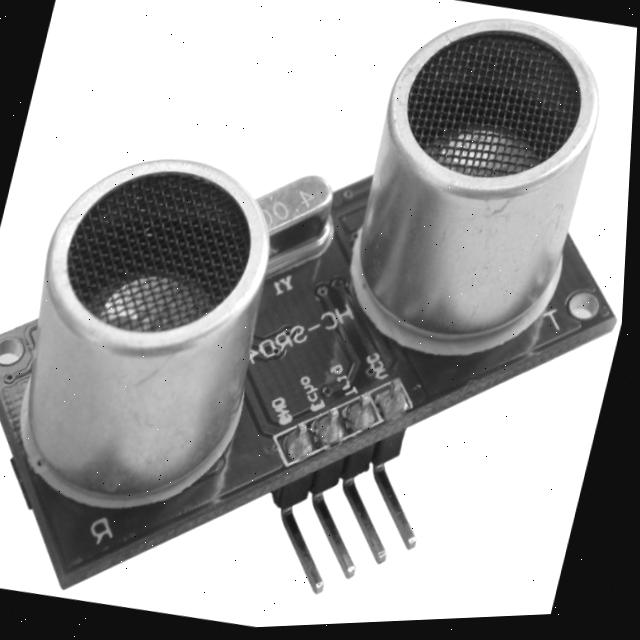Ultrasonic Sensor: (0, 0, 638, 614)
